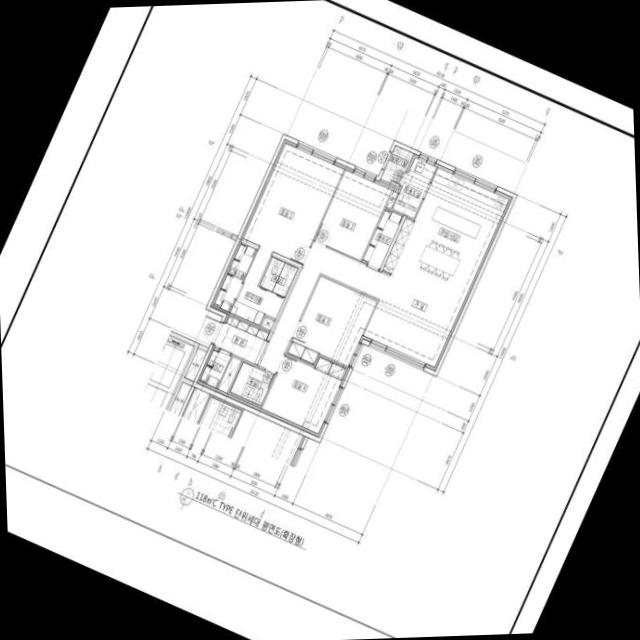background: (0, 0, 640, 640)
space_bedroom: (242, 140, 344, 264), (285, 275, 376, 365), (313, 167, 392, 259), (261, 355, 348, 433)
space_dressroom: (212, 242, 255, 311)
space_elevator_hall: (170, 230, 235, 347)
space_front: (213, 314, 268, 364)
space_kitchen: (382, 165, 509, 304)
space_living_room: (258, 241, 461, 372)
space_other: (230, 249, 284, 325), (392, 154, 437, 218), (361, 208, 402, 268), (198, 348, 230, 387), (217, 356, 240, 392), (183, 347, 206, 381), (385, 190, 397, 208), (260, 316, 274, 329)
space_outdoor_room: (379, 145, 412, 183)
space_toilet: (229, 362, 273, 405), (258, 256, 297, 297)
